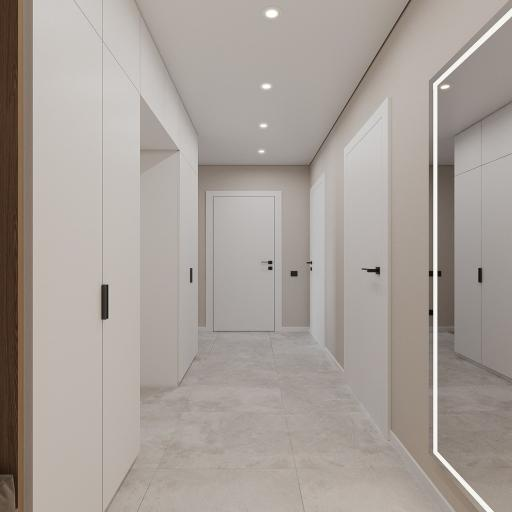bus: (0, 0, 204, 512)
car: (0, 0, 512, 512)
child: (341, 98, 390, 440), (202, 189, 284, 332)
